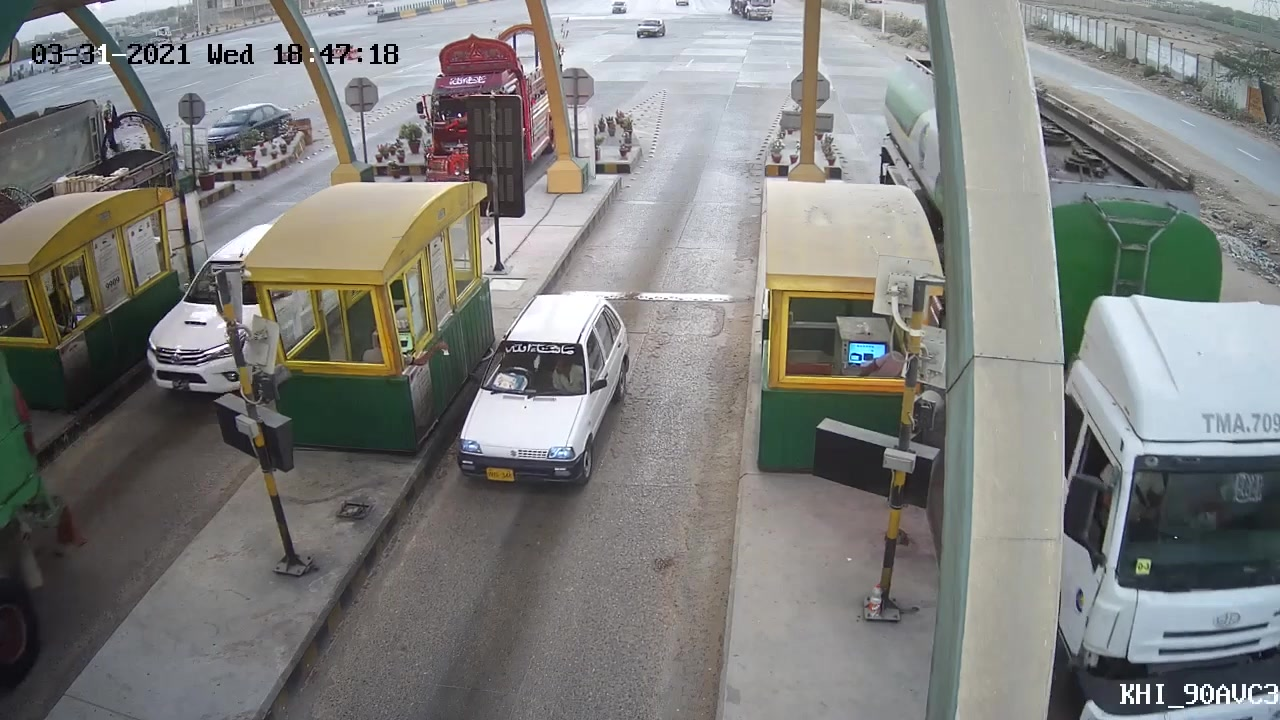F1: (452, 287, 631, 487)
